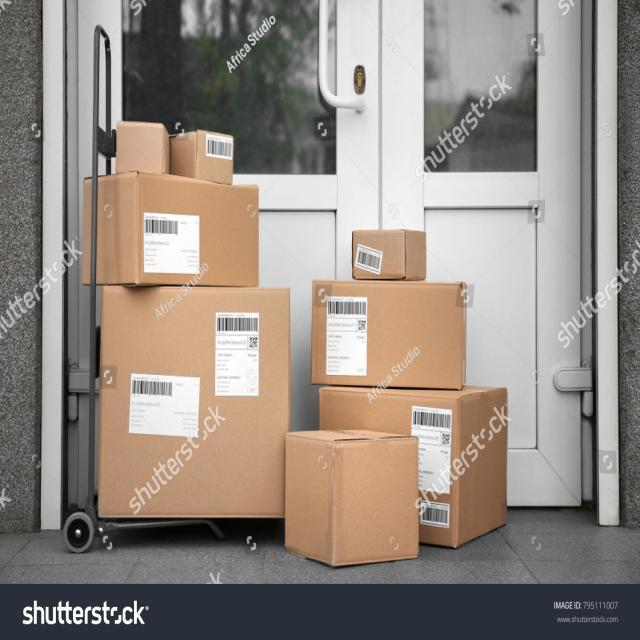BoxFace: (97, 286, 292, 520), (310, 278, 465, 391), (137, 170, 258, 286), (332, 437, 420, 569), (455, 387, 508, 550), (352, 229, 405, 280), (118, 121, 166, 172), (197, 132, 234, 186)
